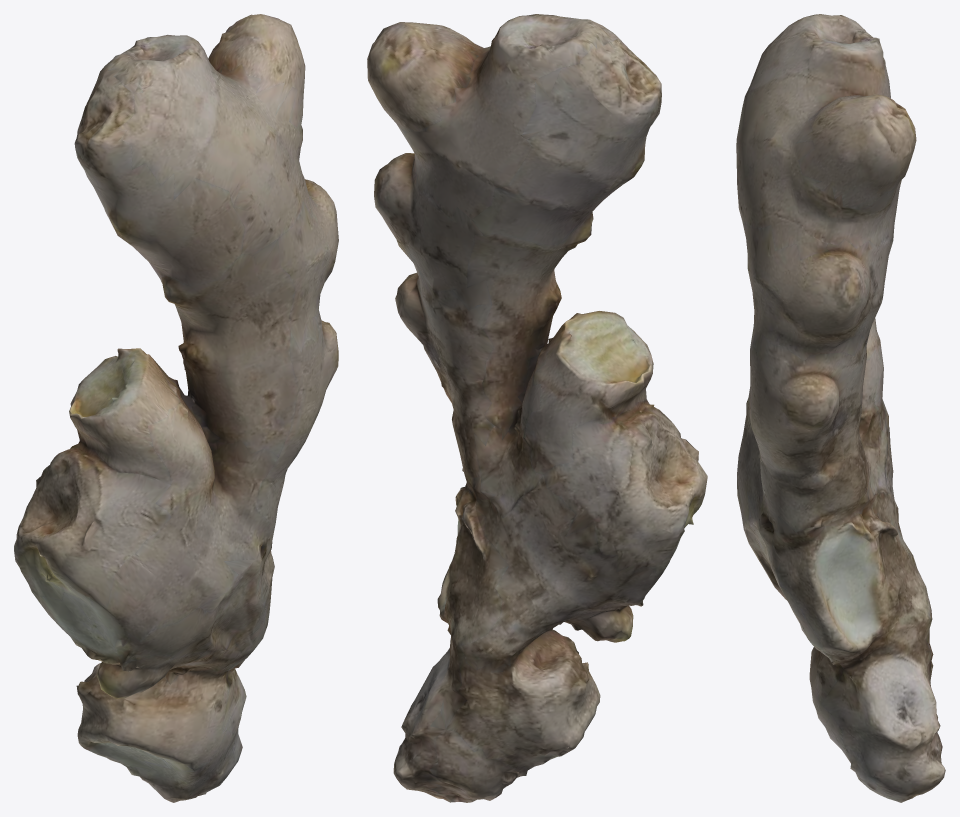
Rendered from food_ginger_01.glb.
3 renders of one model, left to right at view 1: azimuth 30°, elevation 25°; view 2: azimuth 150°, elevation 25°; view 3: azimuth 270°, elevation 25°, orthographic. The views are drawn at different scales.
Parts seen in each view (by area): view 1: food_ginger_01; view 2: food_ginger_01; view 3: food_ginger_01.
Boxes of the visible parts, x1,y1,x2,y2 form: food_ginger_01: (14,14,338,802); food_ginger_01: (367,14,707,802); food_ginger_01: (736,14,945,802).
Bounding box in the file's own units: 0.2399 × 0.5746 × 0.1474.
Materials: 1 (1 with a texture image).
